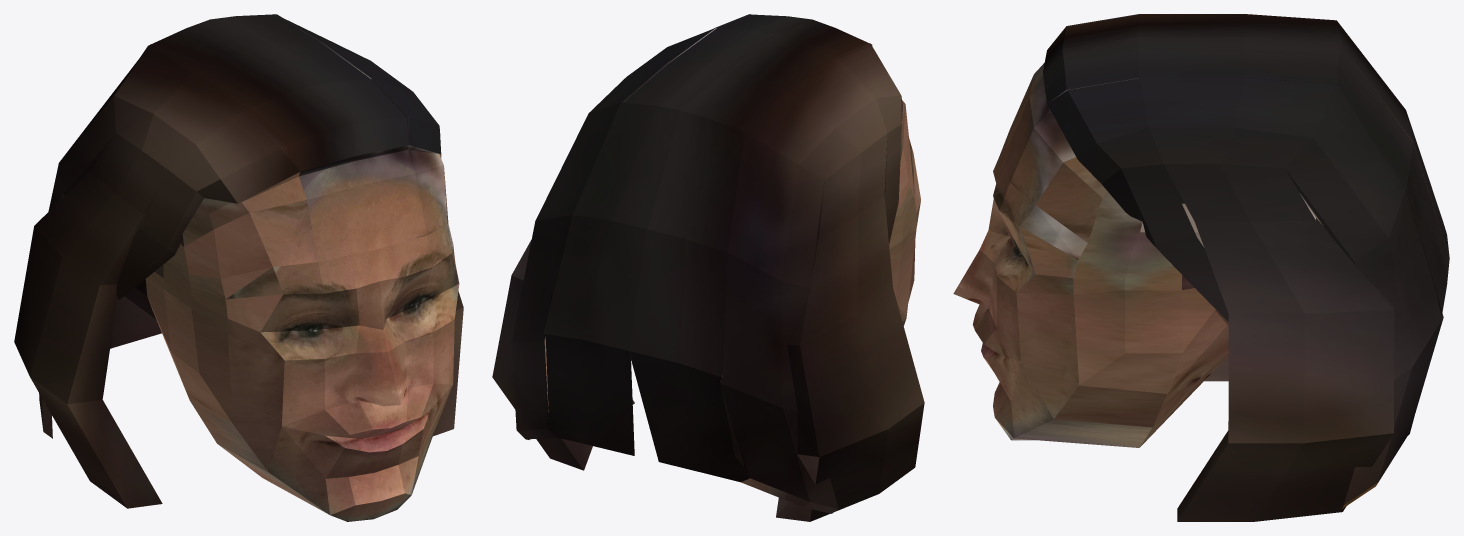
File: lucia.glb
The picture shows the model from 3 angles, left to right: view 1: azimuth 30°, elevation 25°; view 2: azimuth 150°, elevation 25°; view 3: azimuth 270°, elevation 25°; orthographic projection. The views are drawn at different scales.
Parts seen in each view (by area): view 1: Lucia; view 2: Lucia; view 3: Lucia.
Boxes of the visible parts, x1,y1,x2,y2 form: Lucia: (14,14,463,521); Lucia: (492,14,924,521); Lucia: (953,14,1449,521).
Bounding box in the file's own units: 2.11 × 2.06 × 2.25.
Materials: 1 (1 with a texture image).
